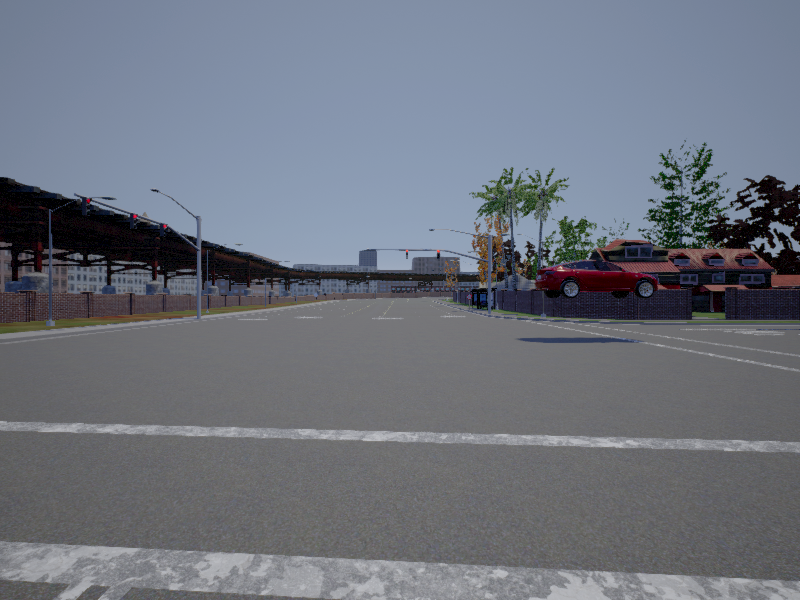Attacker: (538, 260, 658, 299)
